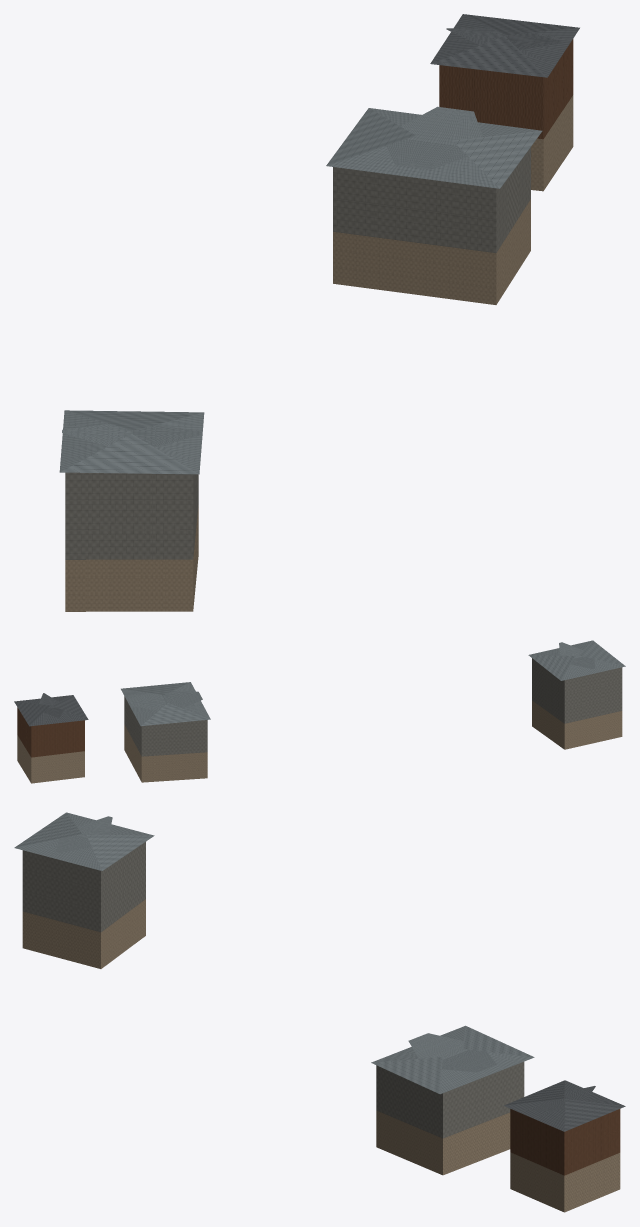
File: bld_c-3_18_538.gltf
3 renders of one model, top to bottom at view 1: azimuth 30°, elevation 25°; view 2: azimuth 150°, elevation 25°; view 3: azimuth 270°, elevation 25°, orthographic. The views are drawn at different scales.
Parts seen in each view (by area): view 1: bld_c-3_18_538; view 2: bld_c-3_18_538; view 3: bld_c-3_18_538.
Part boxes in pixels (x1,y1,x2,y2): bld_c-3_18_538: [59, 14, 579, 611]; bld_c-3_18_538: [14, 640, 625, 783]; bld_c-3_18_538: [14, 812, 625, 1212].
Size of the model in its own units: 89.54 by 16 by 76.81.
Materials: 5 (5 with a texture image).
